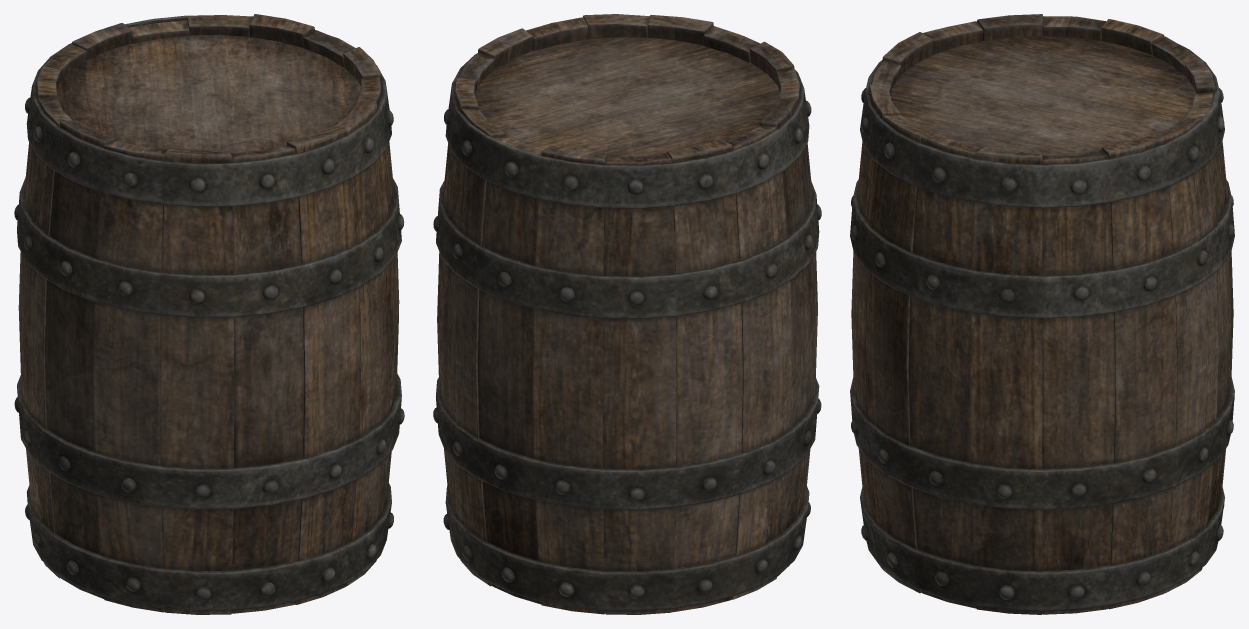
Rendered from barrel.fbx.
The picture shows the model from 3 angles, left to right: view 1: azimuth 30°, elevation 25°; view 2: azimuth 150°, elevation 25°; view 3: azimuth 270°, elevation 25°; orthographic projection.
Visible parts, largest first — view 1: Wooden old barrel; view 2: Wooden old barrel; view 3: Wooden old barrel.
Part boxes in pixels (box(x1,y1,x2,y2)): Wooden old barrel: box(14, 14, 404, 614); Wooden old barrel: box(433, 14, 821, 614); Wooden old barrel: box(850, 14, 1234, 614).
Size of the model in its own units: 69.03 by 90.84 by 69.03.
1 material, 1 textured.
